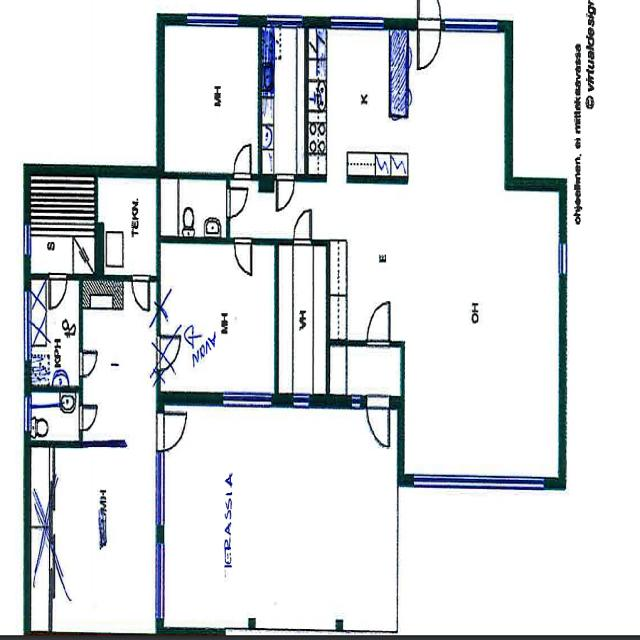door: (418, 14, 441, 67), (366, 393, 388, 444), (156, 414, 185, 451), (367, 299, 389, 346), (156, 335, 181, 369), (234, 235, 252, 273), (233, 141, 251, 179), (286, 170, 303, 210), (226, 188, 248, 218), (49, 274, 67, 310), (295, 205, 312, 243), (418, 0, 441, 27), (132, 274, 149, 310), (79, 349, 100, 377), (79, 402, 99, 428)
